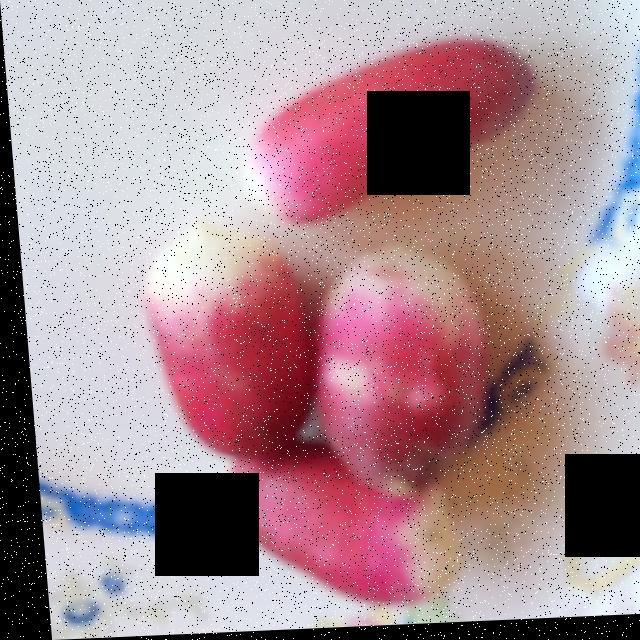radish: (128, 21, 542, 594)
